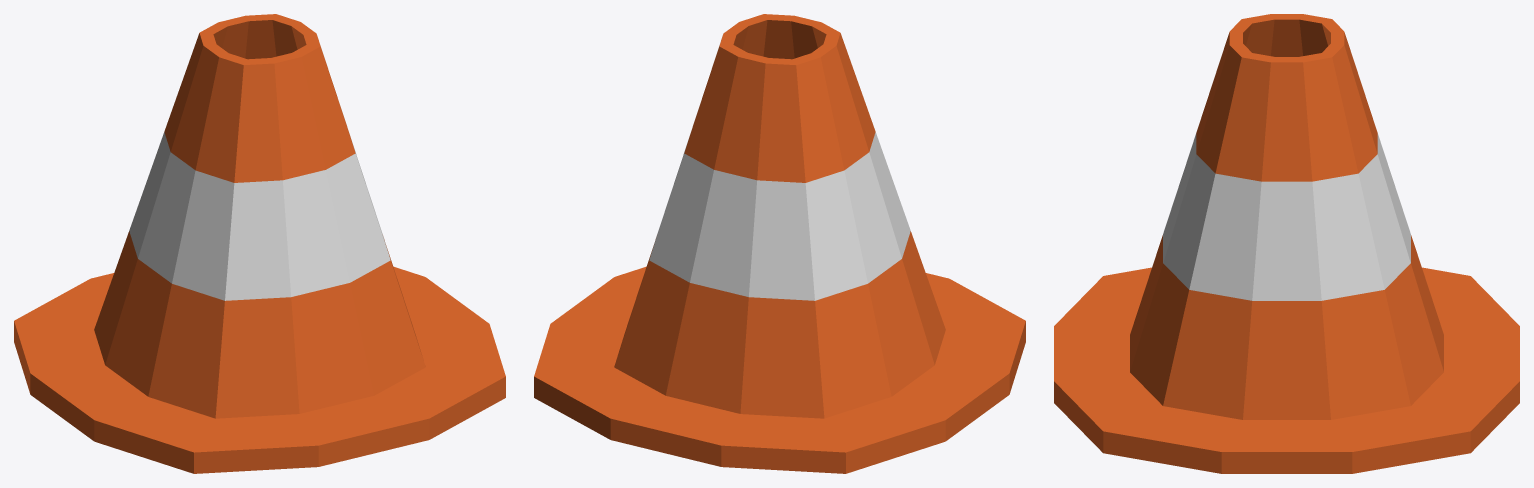
The picture shows the model from 3 angles, left to right: view 1: azimuth 30°, elevation 25°; view 2: azimuth 150°, elevation 25°; view 3: azimuth 270°, elevation 25°; orthographic projection. The views are drawn at different scales.
Parts seen in each view (by area): view 1: G-6; view 2: G-6; view 3: G-6.
Part boxes in pixels (<box>): G-6: <box>14,14,505,473</box>; G-6: <box>534,14,1025,473</box>; G-6: <box>1054,14,1519,473</box>.
Size of the model in its own units: 64.08 by 51.21 by 64.08.
